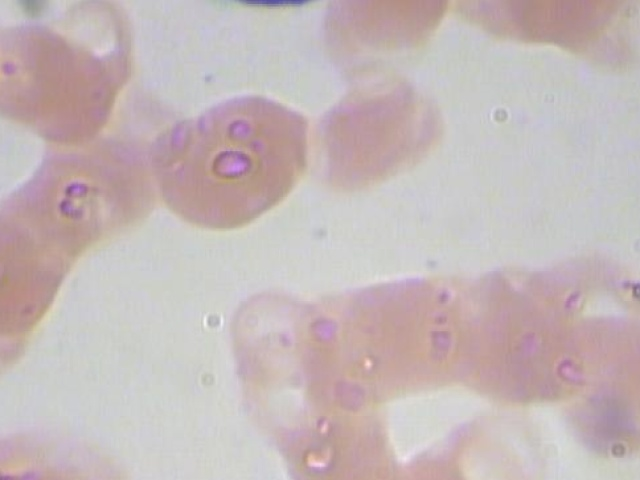RBC: (149, 79, 327, 233), (301, 61, 453, 199), (443, 276, 594, 414), (341, 263, 494, 394), (25, 35, 143, 156), (46, 117, 164, 238), (0, 139, 117, 260), (545, 301, 640, 439), (231, 348, 335, 464), (226, 279, 330, 394), (276, 398, 421, 480), (0, 165, 90, 286), (428, 403, 569, 480), (0, 10, 88, 131), (307, 0, 458, 68), (0, 205, 73, 334), (0, 412, 135, 480), (493, 0, 637, 51), (358, 437, 488, 480), (631, 437, 640, 480), (627, 0, 640, 14)
WBC: (176, 0, 364, 15)
